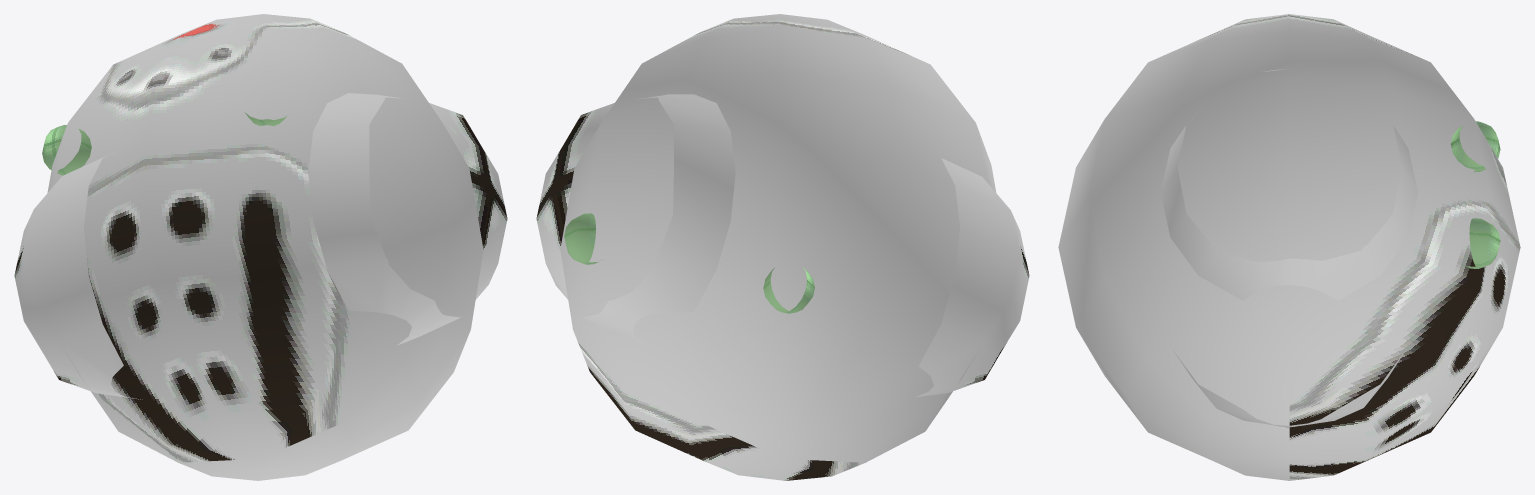
The model's file is ps2_save-icons_generationofchaosnext.glb.
3 renders of one model, left to right at view 1: azimuth 30°, elevation 25°; view 2: azimuth 150°, elevation 25°; view 3: azimuth 270°, elevation 25°, orthographic.
Visible parts, largest first — view 1: icon11.ico; view 2: icon11.ico; view 3: icon11.ico.
Part boxes in pixels (bbox=[...]): icon11.ico: bbox=[14, 14, 507, 480]; icon11.ico: bbox=[536, 14, 1029, 480]; icon11.ico: bbox=[1058, 14, 1520, 480].
Size of the model in its own units: 3.42 by 3 by 3.
Materials: 1 (1 with a texture image).
